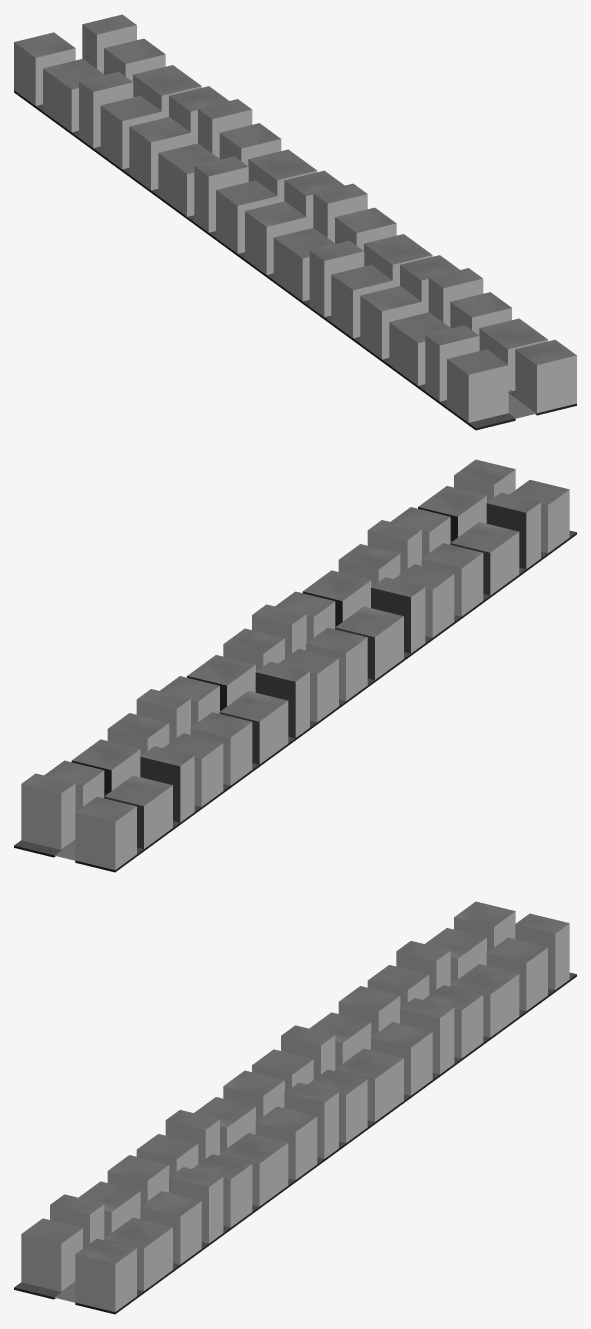
File: taggedcity.fbx
3 views of the same model, one above another, from view 1: azimuth 30°, elevation 25°; view 2: azimuth 150°, elevation 25°; view 3: azimuth 330°, elevation 25° (orthographic).
Parts seen in each view (by area): view 1: Plane.001; view 2: Plane.001; view 3: Plane.001.
Part boxes in pixels (<box>): Plane.001: <box>14,14,576,430</box>; Plane.001: <box>14,459,576,872</box>; Plane.001: <box>14,901,576,1314</box>.
Size of the model in its own units: 5063 by 2800 by 40000.
